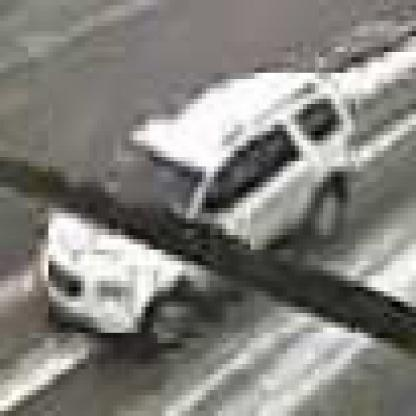car: (46, 74, 357, 339)
